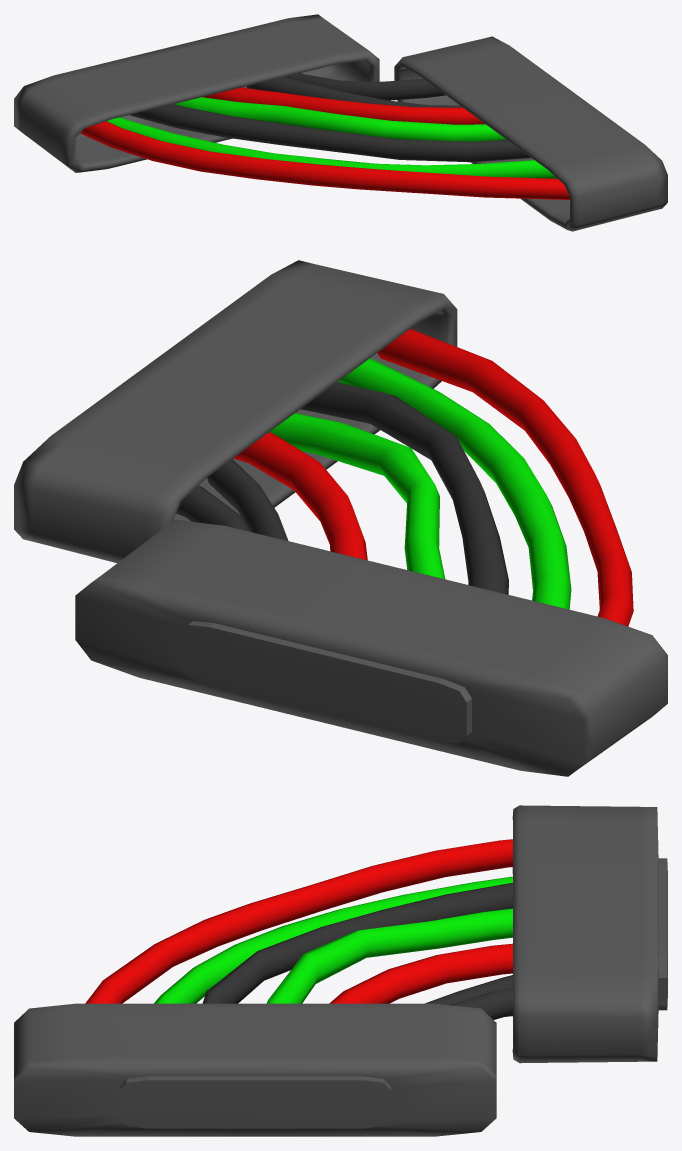
File: WireRoofCorner.fbx
3 views of the same model, one above another, from view 1: azimuth 30°, elevation 25°; view 2: azimuth 150°, elevation 25°; view 3: azimuth 270°, elevation 25° (orthographic). The views are drawn at different scales.
Parts seen in each view (by area): view 1: Wires, End1, End2; view 2: End1, End2, Wires; view 3: End2, Wires, End1.
Part boxes in pixels (left/top/right/bottom): Wires: left=80, top=73, right=569, bottom=199; End1: left=14, top=14, right=379, bottom=172; End2: left=394, top=36, right=667, bottom=231; End1: left=75, top=519, right=667, bottom=776; End2: left=14, top=260, right=457, bottom=563; Wires: left=176, top=329, right=633, bottom=626; End2: left=14, top=1003, right=496, bottom=1136; Wires: left=85, top=839, right=512, bottom=1019; End1: left=512, top=805, right=667, bottom=1063.
Bounding box in the file's own units: 4 × 0.5255 × 4.07.
